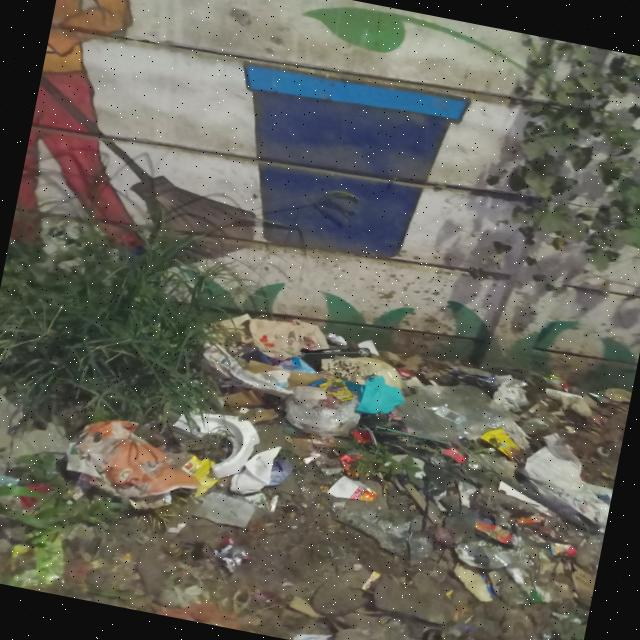garbage: (41, 275, 622, 640)
